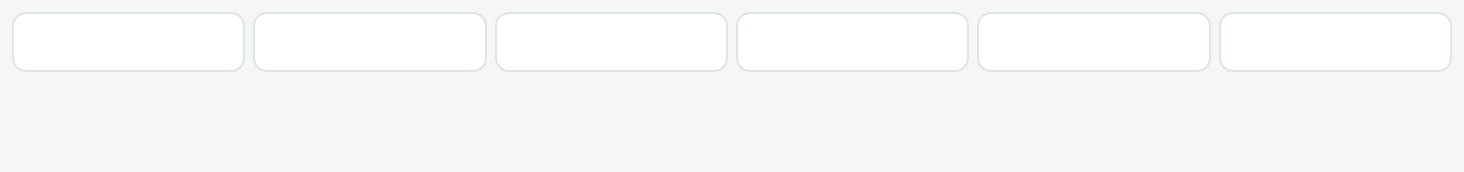
Test: OtpInput moves focus as digits are typed and ignores letters
The width and height of the screenshot is (1464, 172).
Click the field named "Digit 1": (129, 42) x1=12 y1=12 x2=245 y2=72
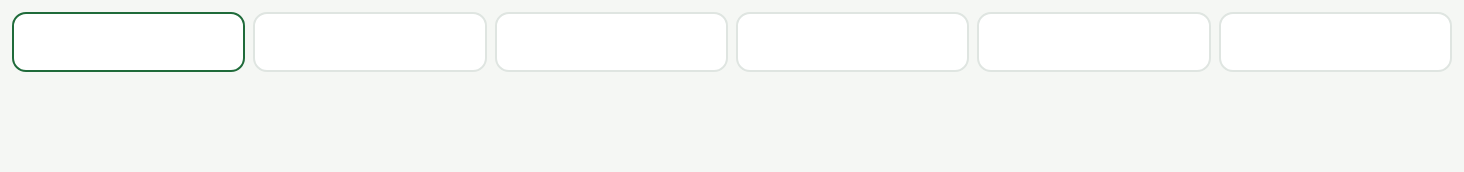
Type keys "12a3456"
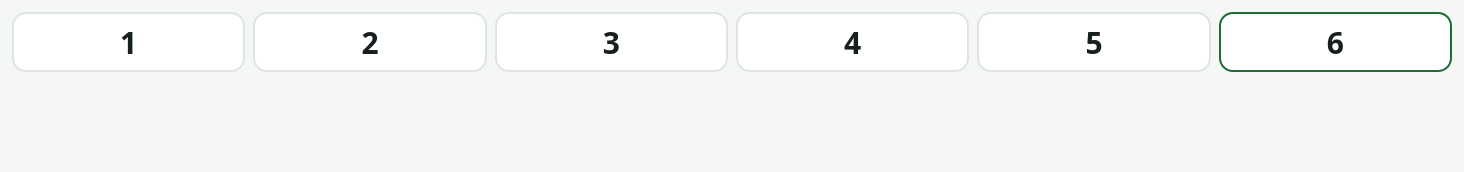
Expected: the field named "Digit 6" holds "6", x1=1219 y1=12 x2=1452 y2=72
